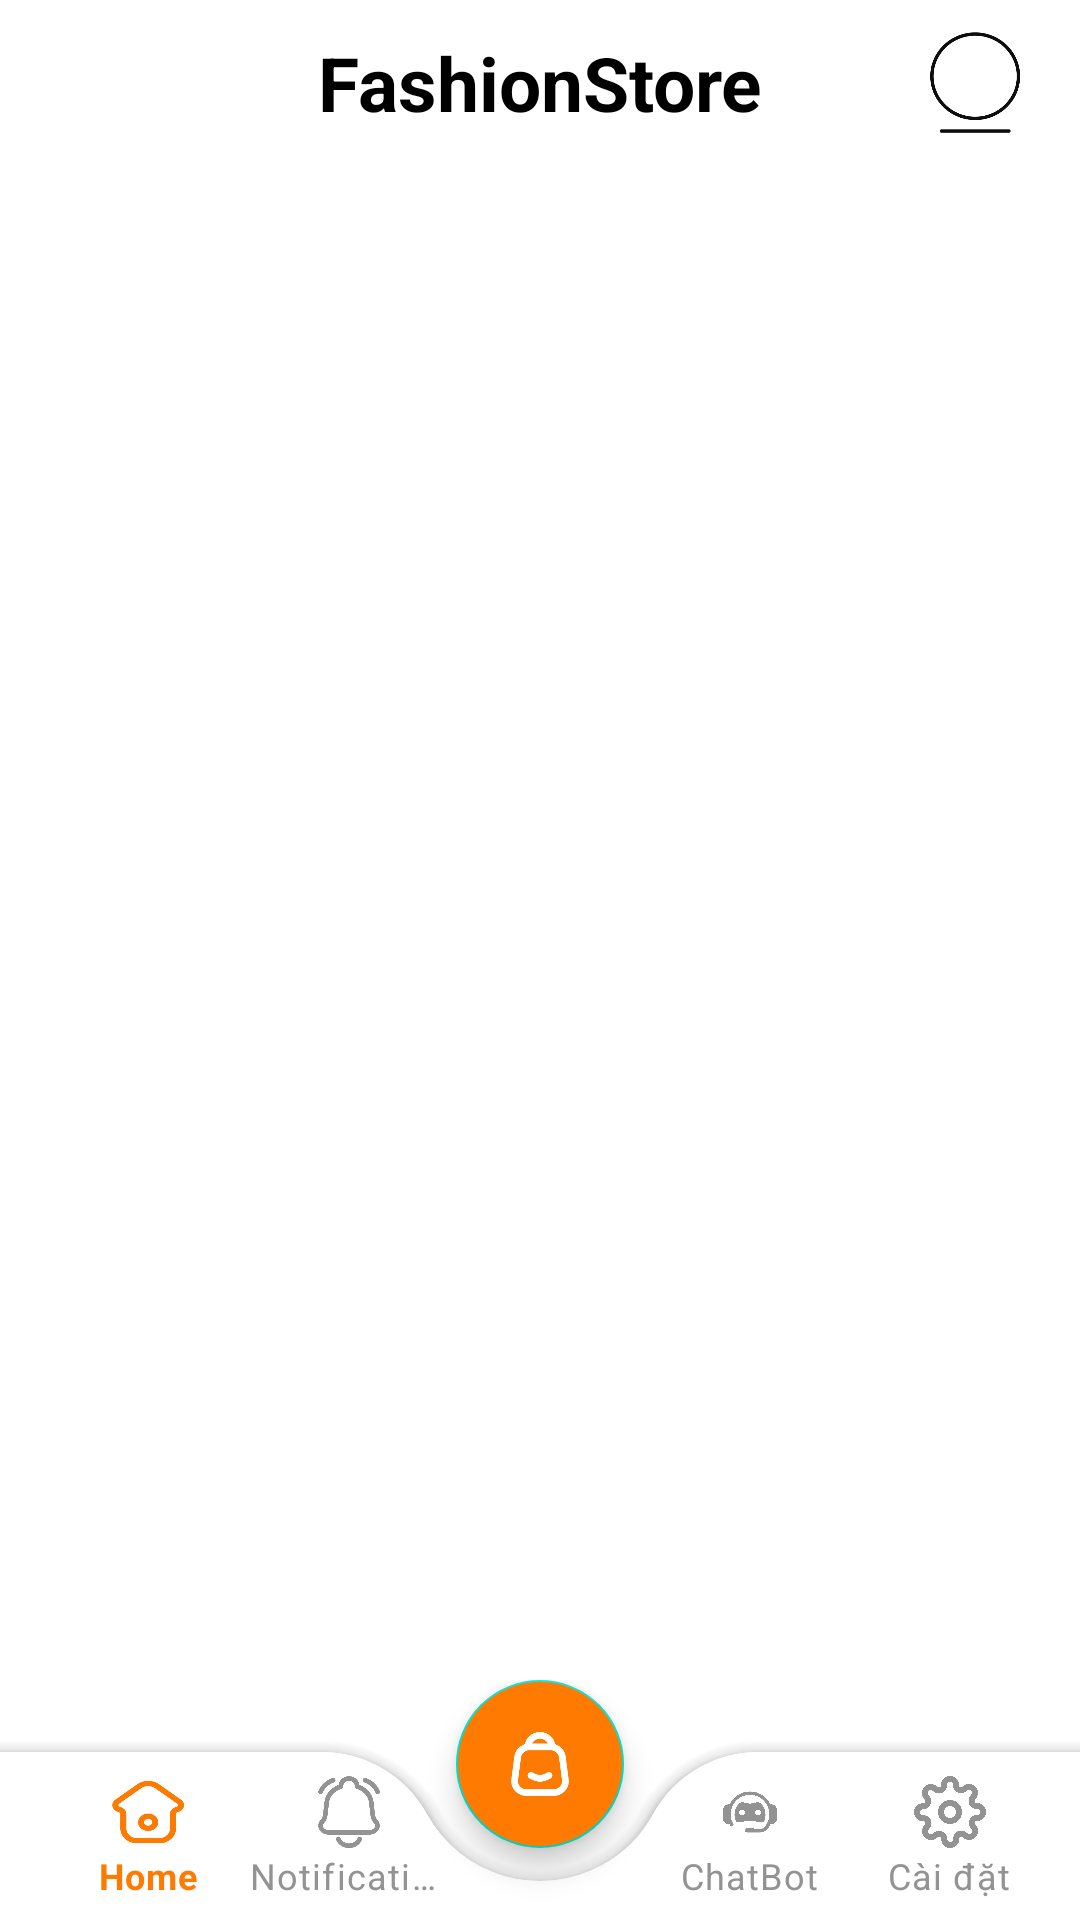

Where icons sit on this 1080×1920 app screen, as bbox=[x1, y1, x2, y2]:
cart: bbox=[456, 1680, 624, 1848]
